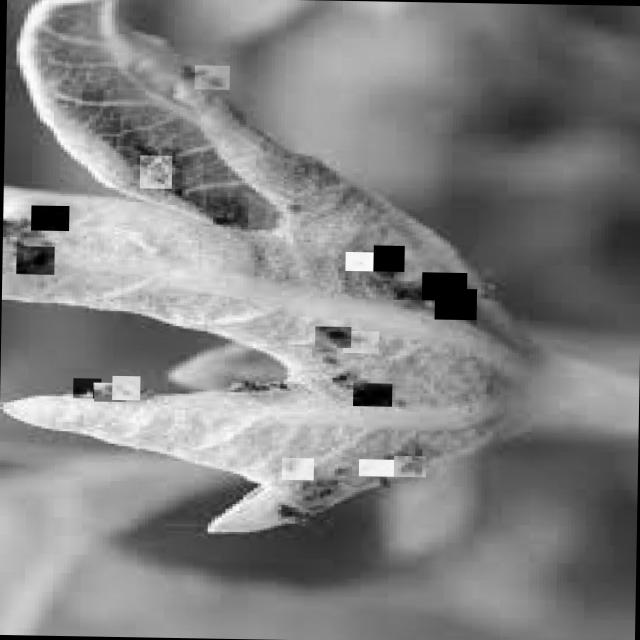aphid: (434, 288, 476, 320), (420, 272, 466, 300), (138, 154, 171, 188), (212, 196, 248, 227), (15, 246, 53, 275), (29, 205, 68, 231), (352, 382, 391, 407), (193, 64, 228, 90), (372, 244, 403, 272), (342, 330, 378, 353), (314, 326, 349, 348), (344, 251, 382, 271), (280, 457, 312, 480), (392, 455, 424, 477), (111, 376, 139, 400), (92, 382, 124, 402), (358, 458, 392, 476), (72, 378, 100, 398)
